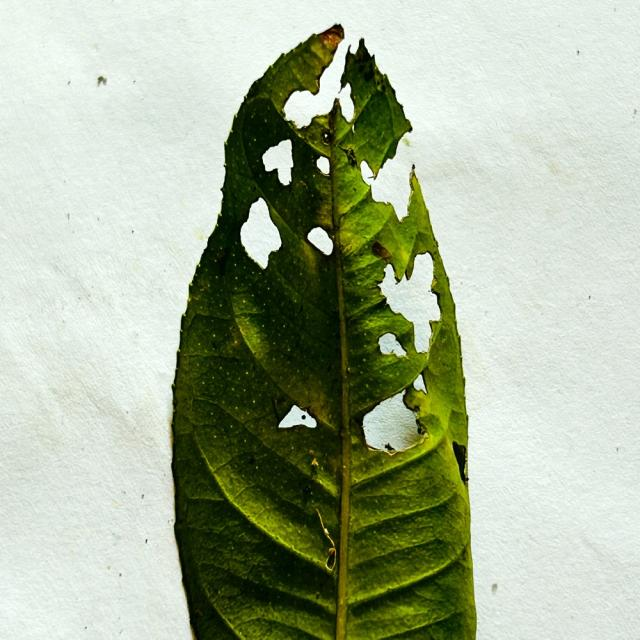Deficiency Leaf: (356, 206, 446, 449), (260, 87, 357, 209), (380, 253, 441, 352), (361, 391, 428, 455), (241, 198, 282, 268), (240, 201, 280, 267), (283, 88, 329, 133), (261, 140, 295, 185), (369, 165, 400, 208), (409, 252, 435, 291), (279, 404, 317, 430), (305, 227, 334, 256), (378, 332, 407, 357), (412, 319, 433, 352), (337, 90, 356, 124), (381, 262, 400, 293), (360, 160, 376, 182), (315, 156, 331, 176), (413, 373, 427, 394)
Lemon: (172, 24, 476, 639)
